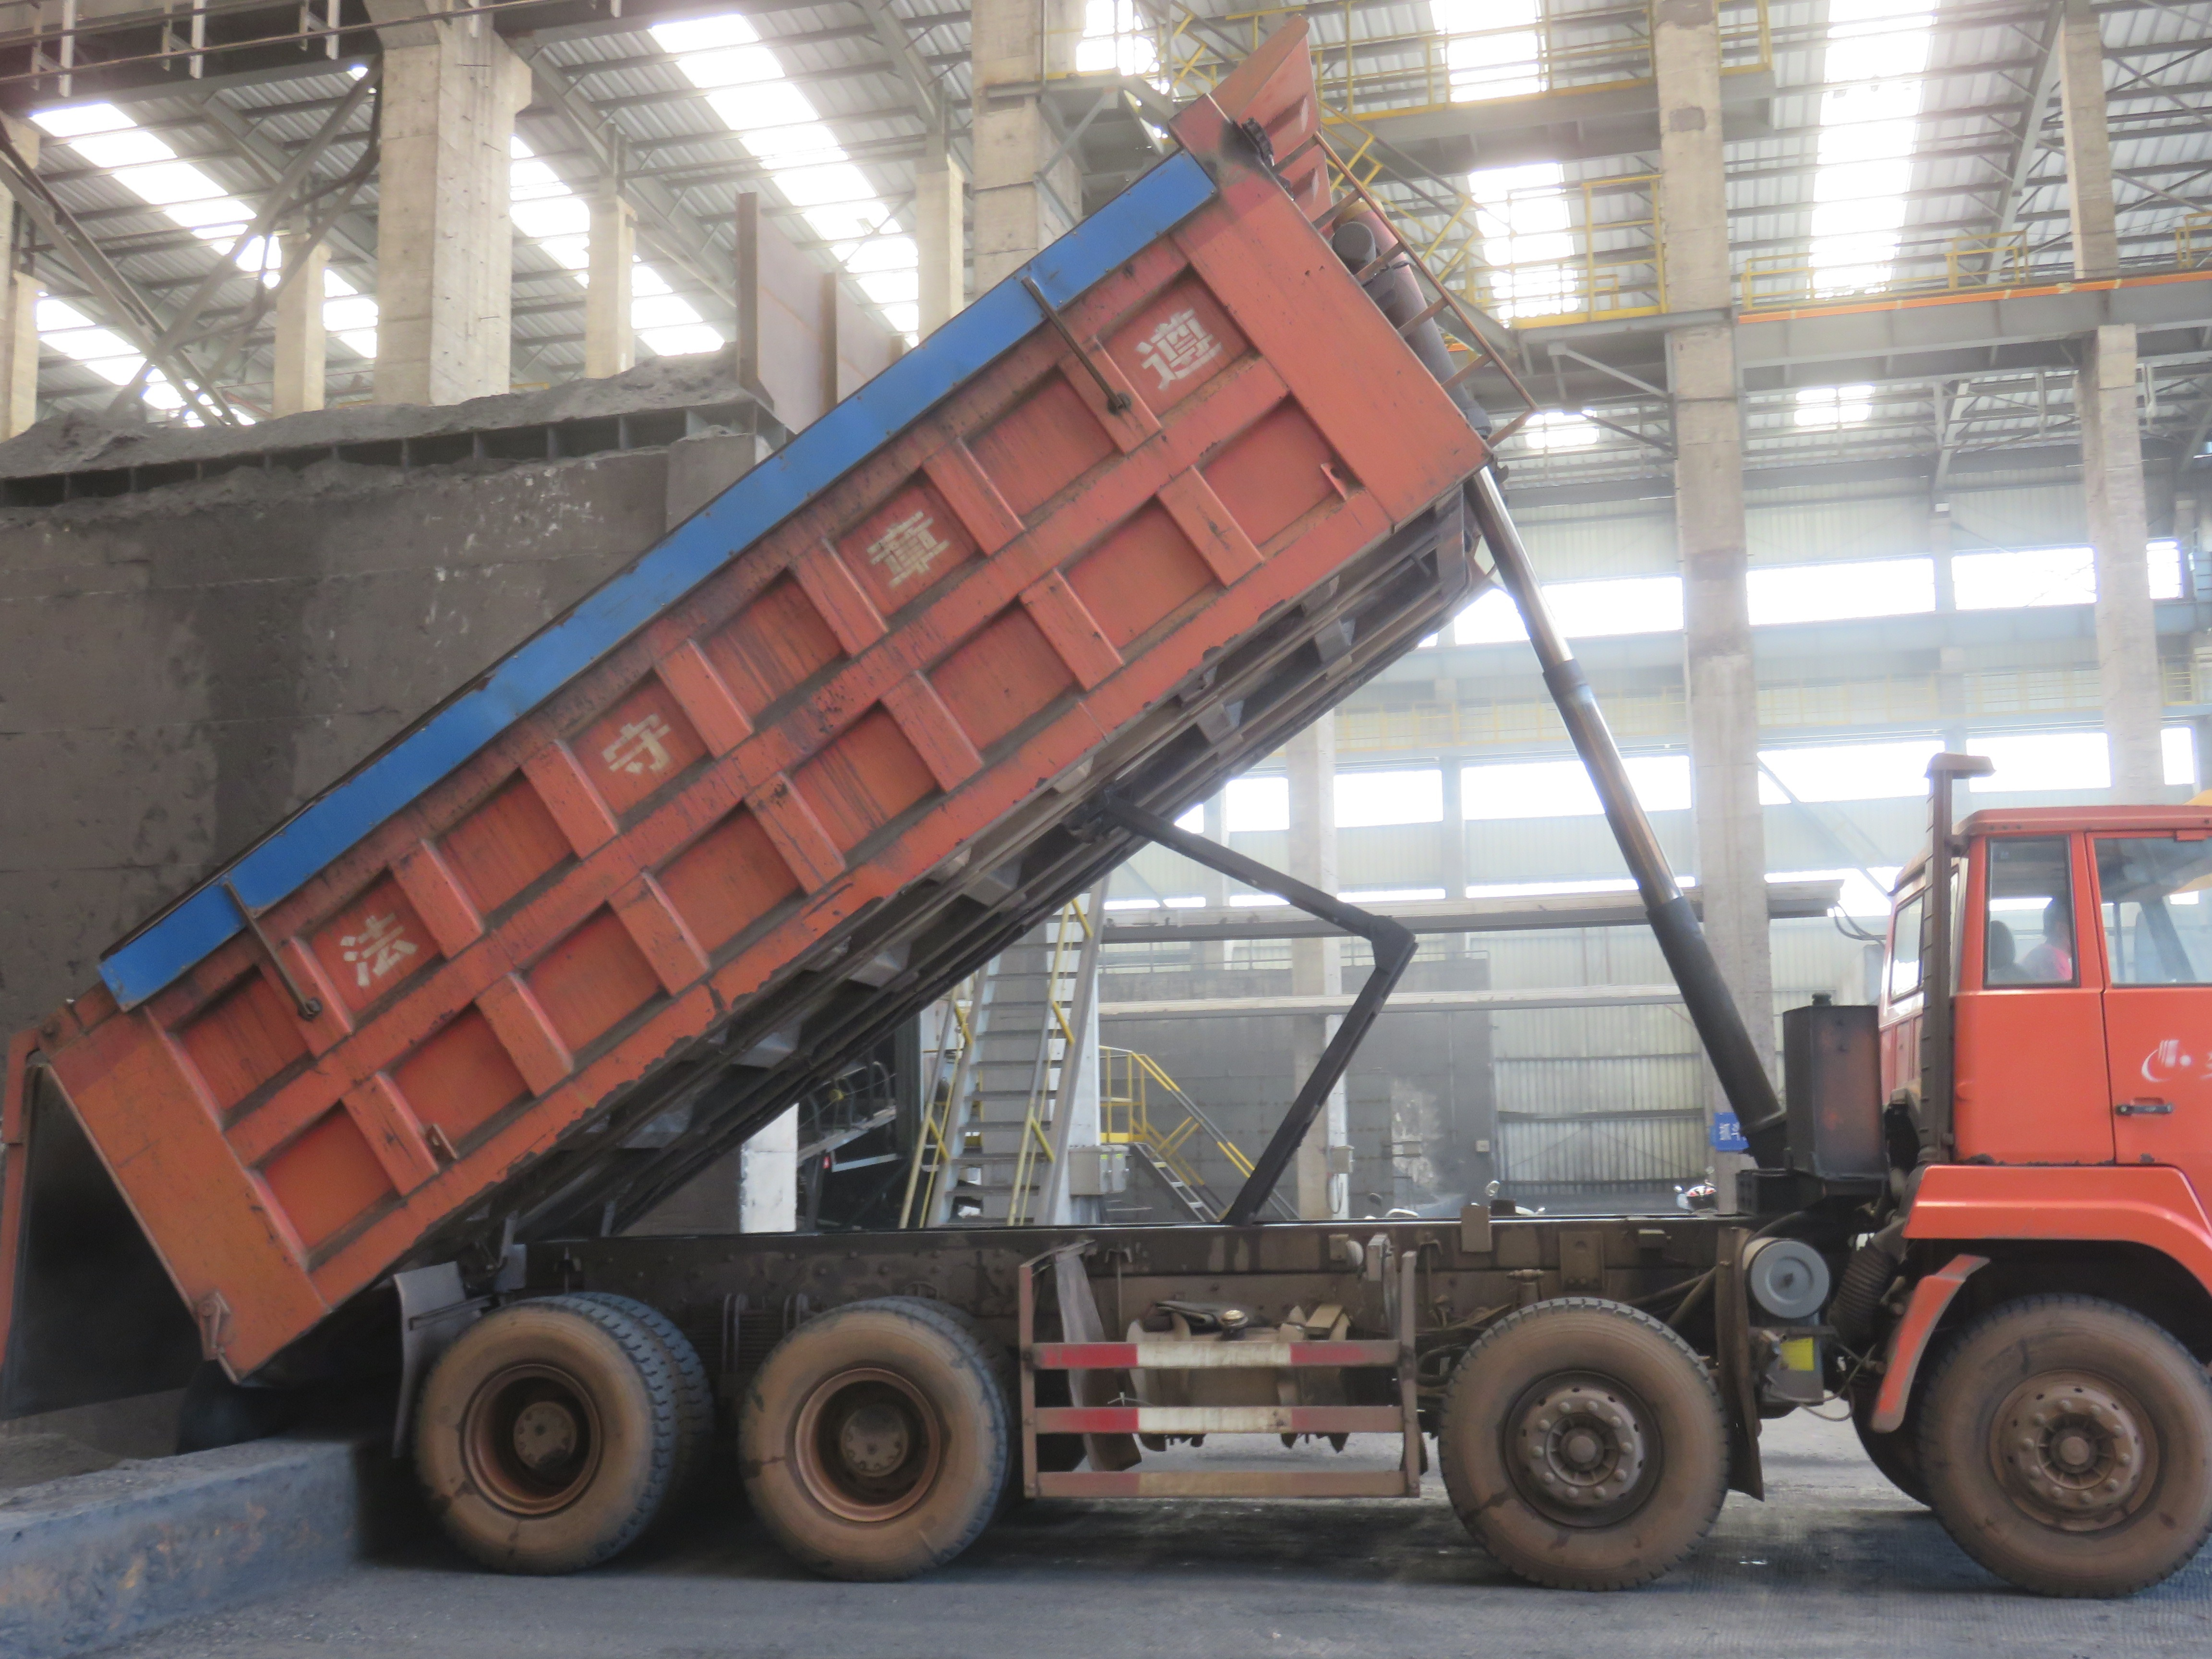truck: (31, 35, 2212, 1610)
